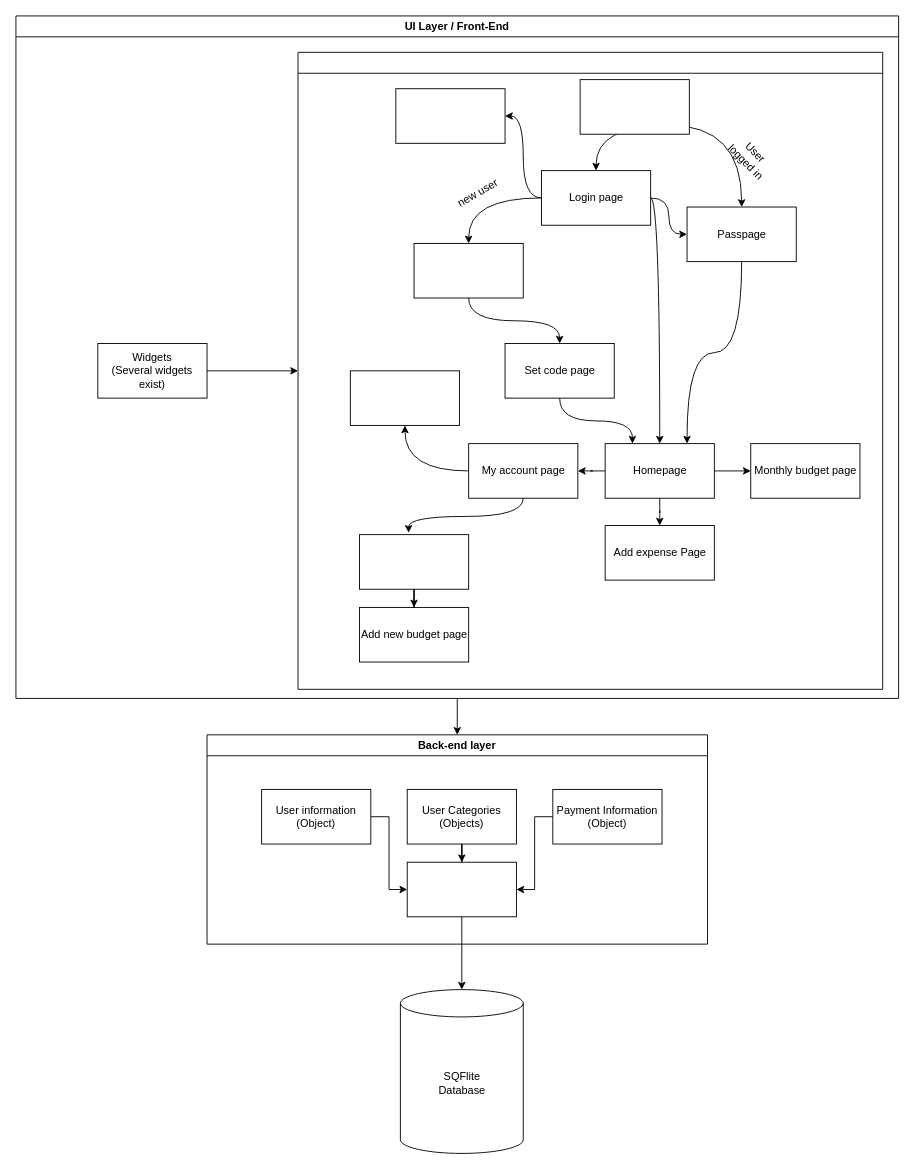
This 915x1169 diagram has some shape labels left out. The shapes that lost their labels are listed below. From the top down, each one's box as (x1, y1, x2, y2) in pixels, then its label:
(395, 88, 505, 143): Login Using bank (Unavailable)
(579, 79, 689, 134): onboardingpage
(413, 243, 523, 298): Register page
(297, 51, 883, 689): Pages
(349, 370, 460, 425): User info page
(359, 534, 469, 589): Manage Budgets page
(406, 861, 516, 917): Database managment system
